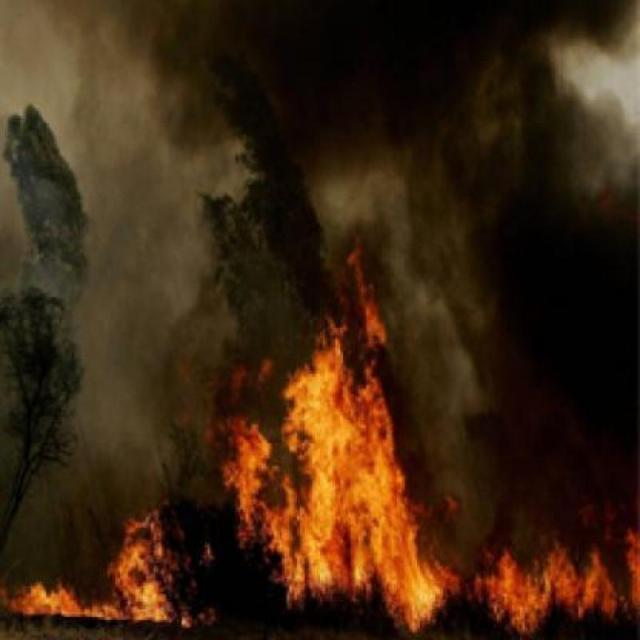Fire: (238, 280, 430, 638), (6, 520, 219, 640), (449, 504, 640, 632)
Smoke: (4, 80, 230, 498)
